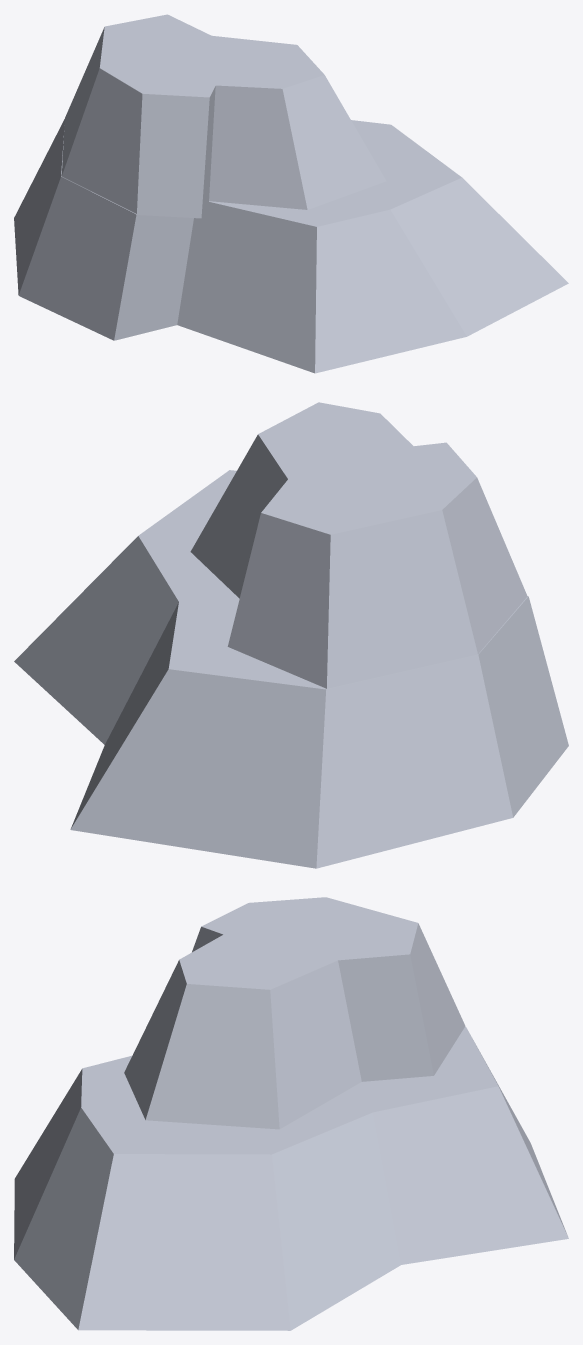
The model's file is Roca_Picar_Tipo1.fbx.
The picture shows the model from 3 angles, top to bottom: view 1: azimuth 30°, elevation 25°; view 2: azimuth 150°, elevation 25°; view 3: azimuth 270°, elevation 25°; orthographic projection. The views are drawn at different scales.
Parts seen in each view (by area): view 1: Cubo.015, Cubo.016; view 2: Cubo.015, Cubo.016; view 3: Cubo.015, Cubo.016.
Part boxes in pixels (x1,y1,x2,y2): Cubo.015: [14, 119, 568, 373]; Cubo.016: [61, 14, 386, 218]; Cubo.015: [14, 470, 568, 868]; Cubo.016: [190, 402, 527, 688]; Cubo.015: [14, 1026, 568, 1330]; Cubo.016: [124, 897, 465, 1129].
Size of the model in its own units: 133 by 65.32 by 136.
Materials: 2 (2 with a texture image).
